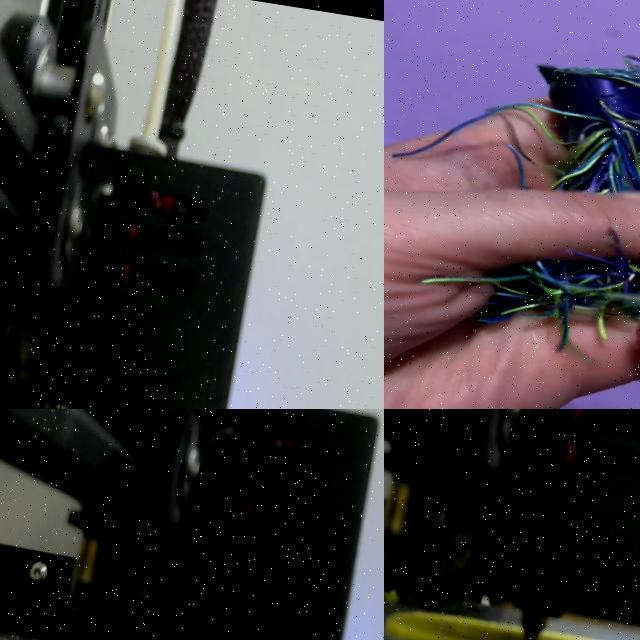spaghetti: (440, 56, 640, 360)
